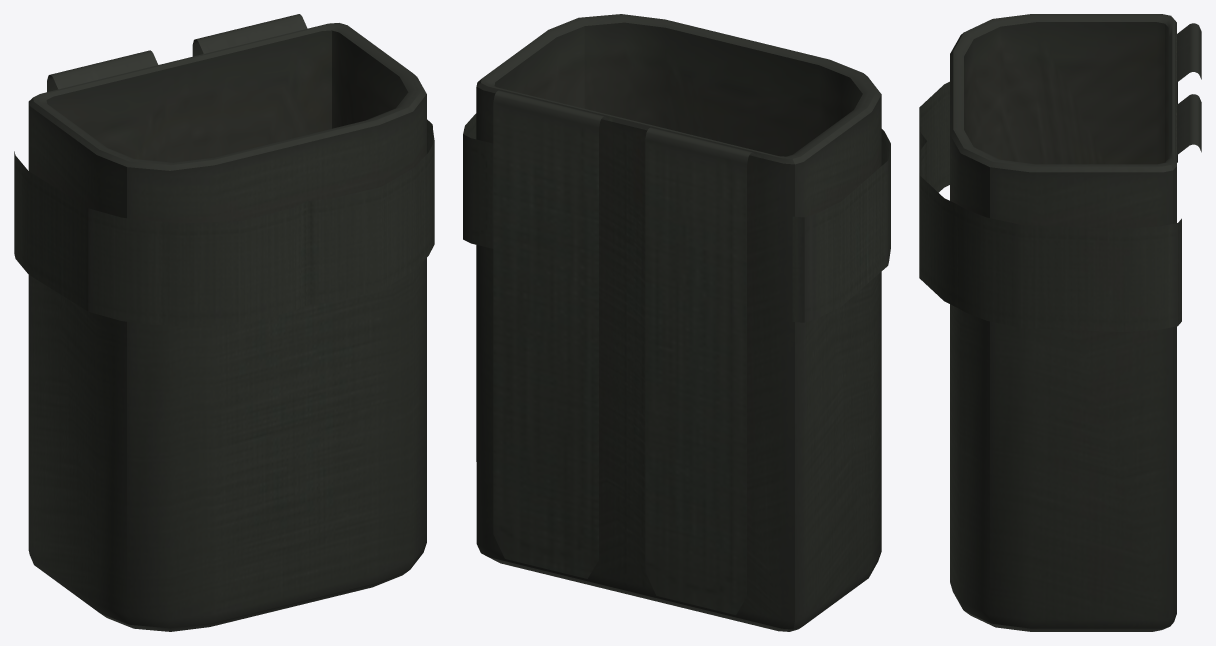
The model's file is petite_poche.fbx.
3 views of the same model, side by side, from view 1: azimuth 30°, elevation 25°; view 2: azimuth 150°, elevation 25°; view 3: azimuth 270°, elevation 25° (orthographic). The views are drawn at different scales.
Parts seen in each view (by area): view 1: WarBelt; view 2: WarBelt; view 3: WarBelt.
Part boxes in pixels (x1=…): WarBelt: x1=14, y1=14, x2=434, y2=631; WarBelt: x1=463, y1=14, x2=890, y2=631; WarBelt: x1=919, y1=14, x2=1201, y2=631.
Bounding box in the file's own units: 864 × 1103 × 590.
Materials: 1 (1 with a texture image).
